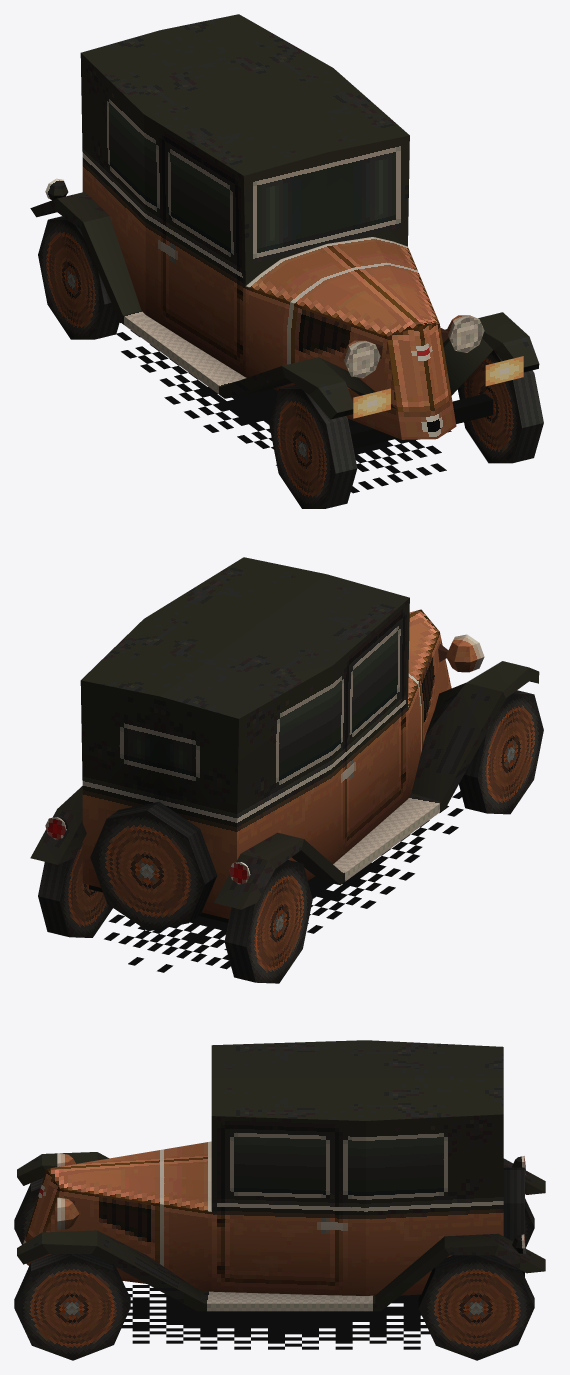
File: jalopy_brown.glb
3 views of the same model, one above another, from view 1: azimuth 30°, elevation 25°; view 2: azimuth 150°, elevation 25°; view 3: azimuth 270°, elevation 25° (orthographic). The views are drawn at different scales.
Visible parts, largest first — view 1: Body, BlobShadow, Headlight_1, Headlight_-1; view 2: Body, BlobShadow; view 3: Body, BlobShadow.
Boxes of the visible parts, left/top/right/bottom form: Body: left=30, top=14, right=543, bottom=508; BlobShadow: left=116, top=322, right=451, bottom=493; Headlight_1: left=485, top=356, right=523, bottom=386; Headlight_-1: left=353, top=388, right=390, bottom=418; Body: left=30, top=557, right=543, bottom=983; BlobShadow: left=104, top=791, right=463, bottom=972; Body: left=14, top=1040, right=545, bottom=1360; BlobShadow: left=121, top=1285, right=430, bottom=1349.
Size of what is drawn, in the model's own units: 1.83 by 2.06 by 4.25.
3 materials, 3 textured.
